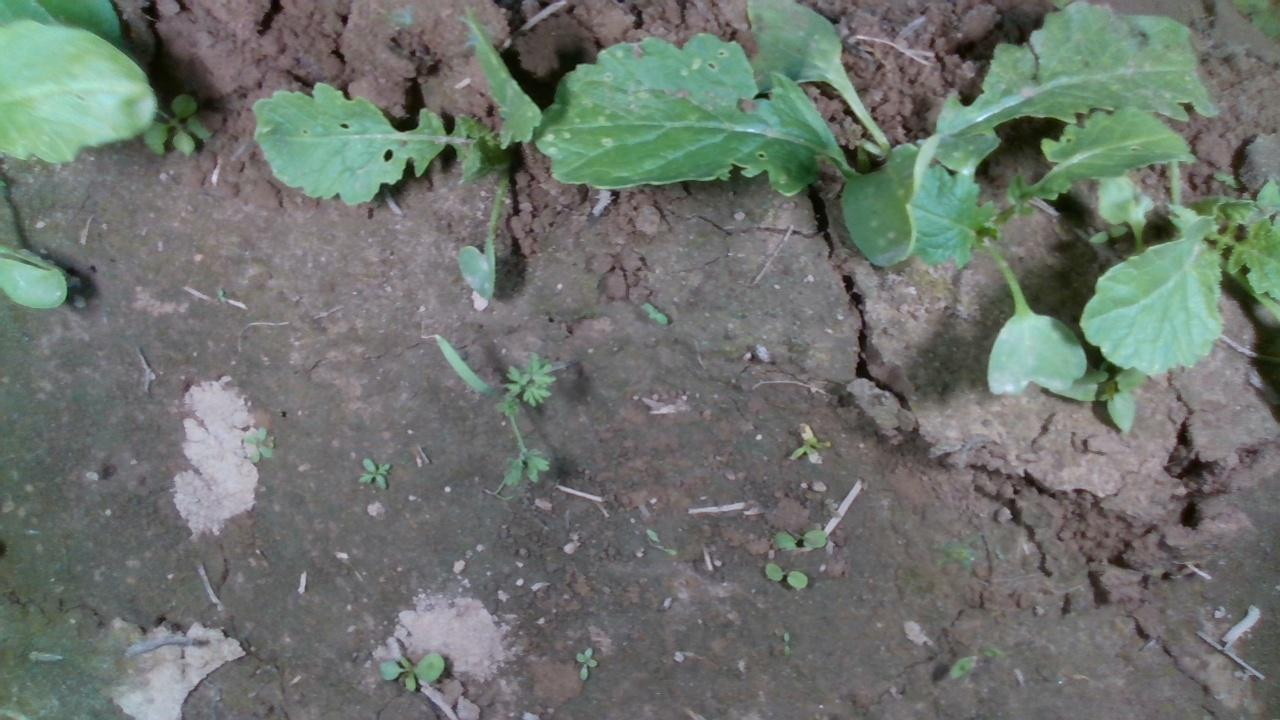weed: (375, 650, 445, 694), (762, 560, 808, 589), (243, 422, 274, 463), (355, 455, 391, 490), (769, 527, 826, 548), (571, 645, 597, 680), (637, 300, 668, 326), (778, 629, 791, 658)
